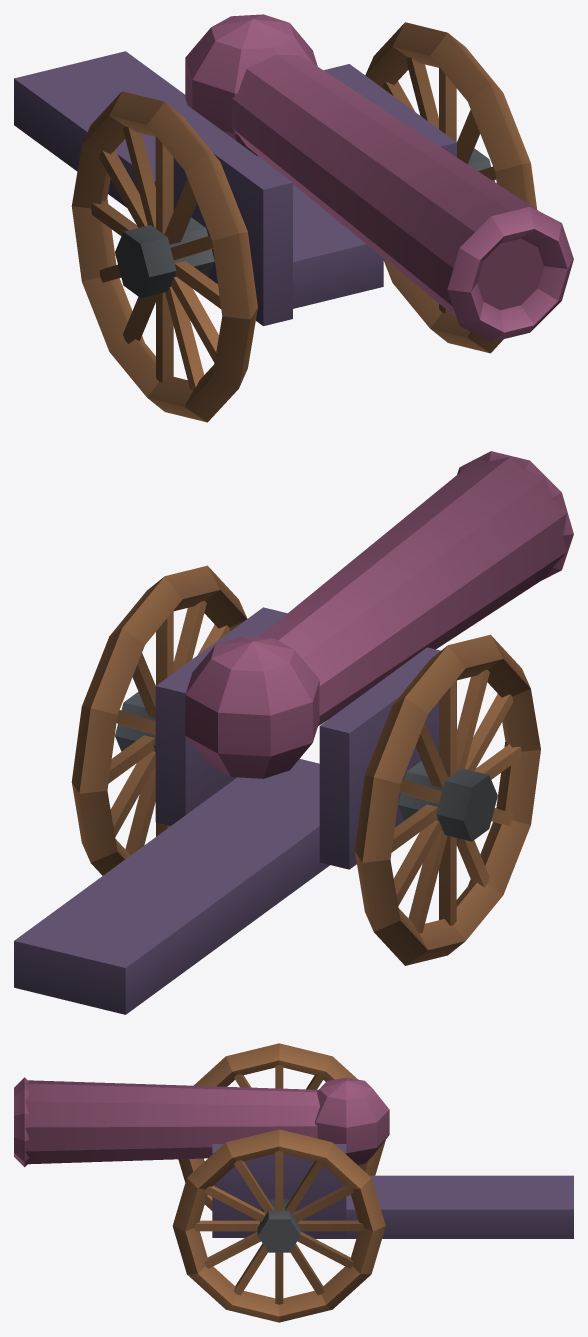
Rendered from F_CANNON.glb.
3 views of the same model, one above another, from view 1: azimuth 30°, elevation 25°; view 2: azimuth 150°, elevation 25°; view 3: azimuth 270°, elevation 25° (orthographic). The views are drawn at different scales.
Parts seen in each view (by area): view 1: Barrel, Wheel_0, Body, Wheel_1; view 2: Body, Barrel, Wheel_0, Wheel_1; view 3: Barrel, Wheel_1, Body, Wheel_0.
Boxes of the visible parts, left/top/right/bottom form: Barrel: left=185, top=14, right=573, bottom=341; Wheel_0: left=71, top=91, right=257, bottom=422; Body: left=14, top=51, right=456, bottom=325; Wheel_1: left=365, top=22, right=537, bottom=353; Body: left=14, top=607, right=456, bottom=1014; Barrel: left=185, top=451, right=573, bottom=778; Wheel_0: left=355, top=634, right=540, bottom=965; Wheel_1: left=71, top=565, right=247, bottom=875; Barrel: left=14, top=1077, right=389, bottom=1167; Wheel_1: left=172, top=1129, right=385, bottom=1322; Body: left=212, top=1144, right=573, bottom=1238; Wheel_0: left=178, top=1043, right=385, bottom=1210.
Size of the model in its own units: 0.936 by 0.818 by 2.09.
Materials: 1 (1 with a texture image).
